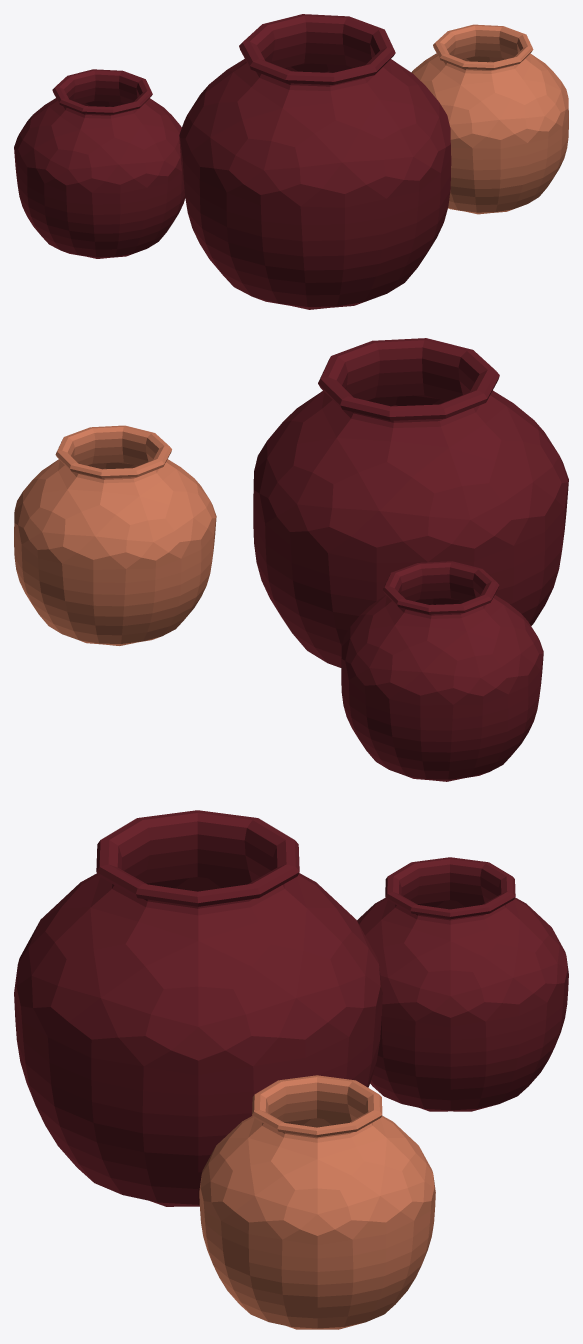
File: Pots_type_2.fbx
3 views of the same model, one above another, from view 1: azimuth 30°, elevation 25°; view 2: azimuth 150°, elevation 25°; view 3: azimuth 270°, elevation 25° (orthographic). The views are drawn at different scales.
Visible parts, largest first — view 1: Box_rond_2; view 2: Box_rond_2; view 3: Box_rond_2.
Boxes of the visible parts, x1,y1,x2,y2 form: Box_rond_2: (14,14,568,309); Box_rond_2: (14,338,568,781); Box_rond_2: (14,810,568,1329).
Bounding box in the file's own units: 90.58 × 43.31 × 66.77.
